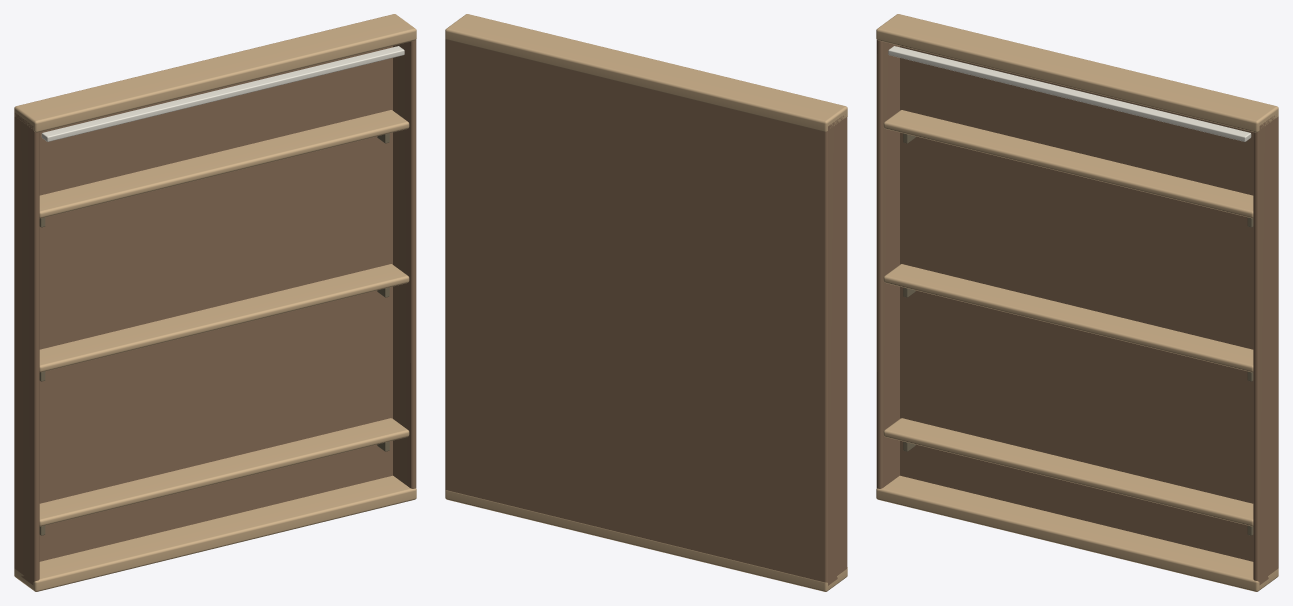
File: wall_electronics.glb
3 renders of one model, left to right at view 1: azimuth 30°, elevation 25°; view 2: azimuth 150°, elevation 25°; view 3: azimuth 330°, elevation 25°, orthographic.
Parts seen in each view (by area): view 1: Closed back, seated against existing opaque boundary, Bottom / crown.001, Outer stile, Bottom / crown, Outer stile.001, Load-bearing shelf, Load-bearing shelf.002, Load-bearing shelf.001, Integrated light diffuser; view 2: Closed back, seated against existing opaque boundary, Bottom / crown.001, Outer stile, Bottom / crown; view 3: Closed back, seated against existing opaque boundary, Bottom / crown.001, Outer stile.001, Bottom / crown, Outer stile, Load-bearing shelf, Load-bearing shelf.002, Load-bearing shelf.001, Integrated light diffuser.
Boxes of the visible parts, bbox=[...] form: Closed back, seated against existing opaque boundary: bbox=[14, 46, 392, 568]; Bottom / crown.001: bbox=[14, 14, 416, 132]; Outer stile: bbox=[15, 113, 39, 584]; Bottom / crown: bbox=[14, 475, 416, 591]; Outer stile.001: bbox=[393, 40, 416, 488]; Load-bearing shelf: bbox=[39, 418, 409, 526]; Load-bearing shelf.002: bbox=[39, 110, 409, 218]; Load-bearing shelf.001: bbox=[39, 264, 409, 372]; Integrated light diffuser: bbox=[41, 46, 404, 141]; Closed back, seated against existing opaque boundary: bbox=[445, 39, 828, 585]; Bottom / crown.001: bbox=[445, 14, 847, 131]; Outer stile: bbox=[828, 115, 847, 584]; Bottom / crown: bbox=[445, 490, 847, 591]; Closed back, seated against existing opaque boundary: bbox=[900, 46, 1278, 568]; Bottom / crown.001: bbox=[876, 14, 1278, 132]; Outer stile.001: bbox=[1253, 115, 1277, 584]; Bottom / crown: bbox=[876, 475, 1278, 591]; Outer stile: bbox=[876, 40, 899, 488]; Load-bearing shelf: bbox=[883, 418, 1253, 526]; Load-bearing shelf.002: bbox=[883, 110, 1253, 218]; Load-bearing shelf.001: bbox=[883, 264, 1253, 372]; Integrated light diffuser: bbox=[888, 46, 1251, 141].
Size of the model in its own units: 2 by 2.36 by 0.2.
